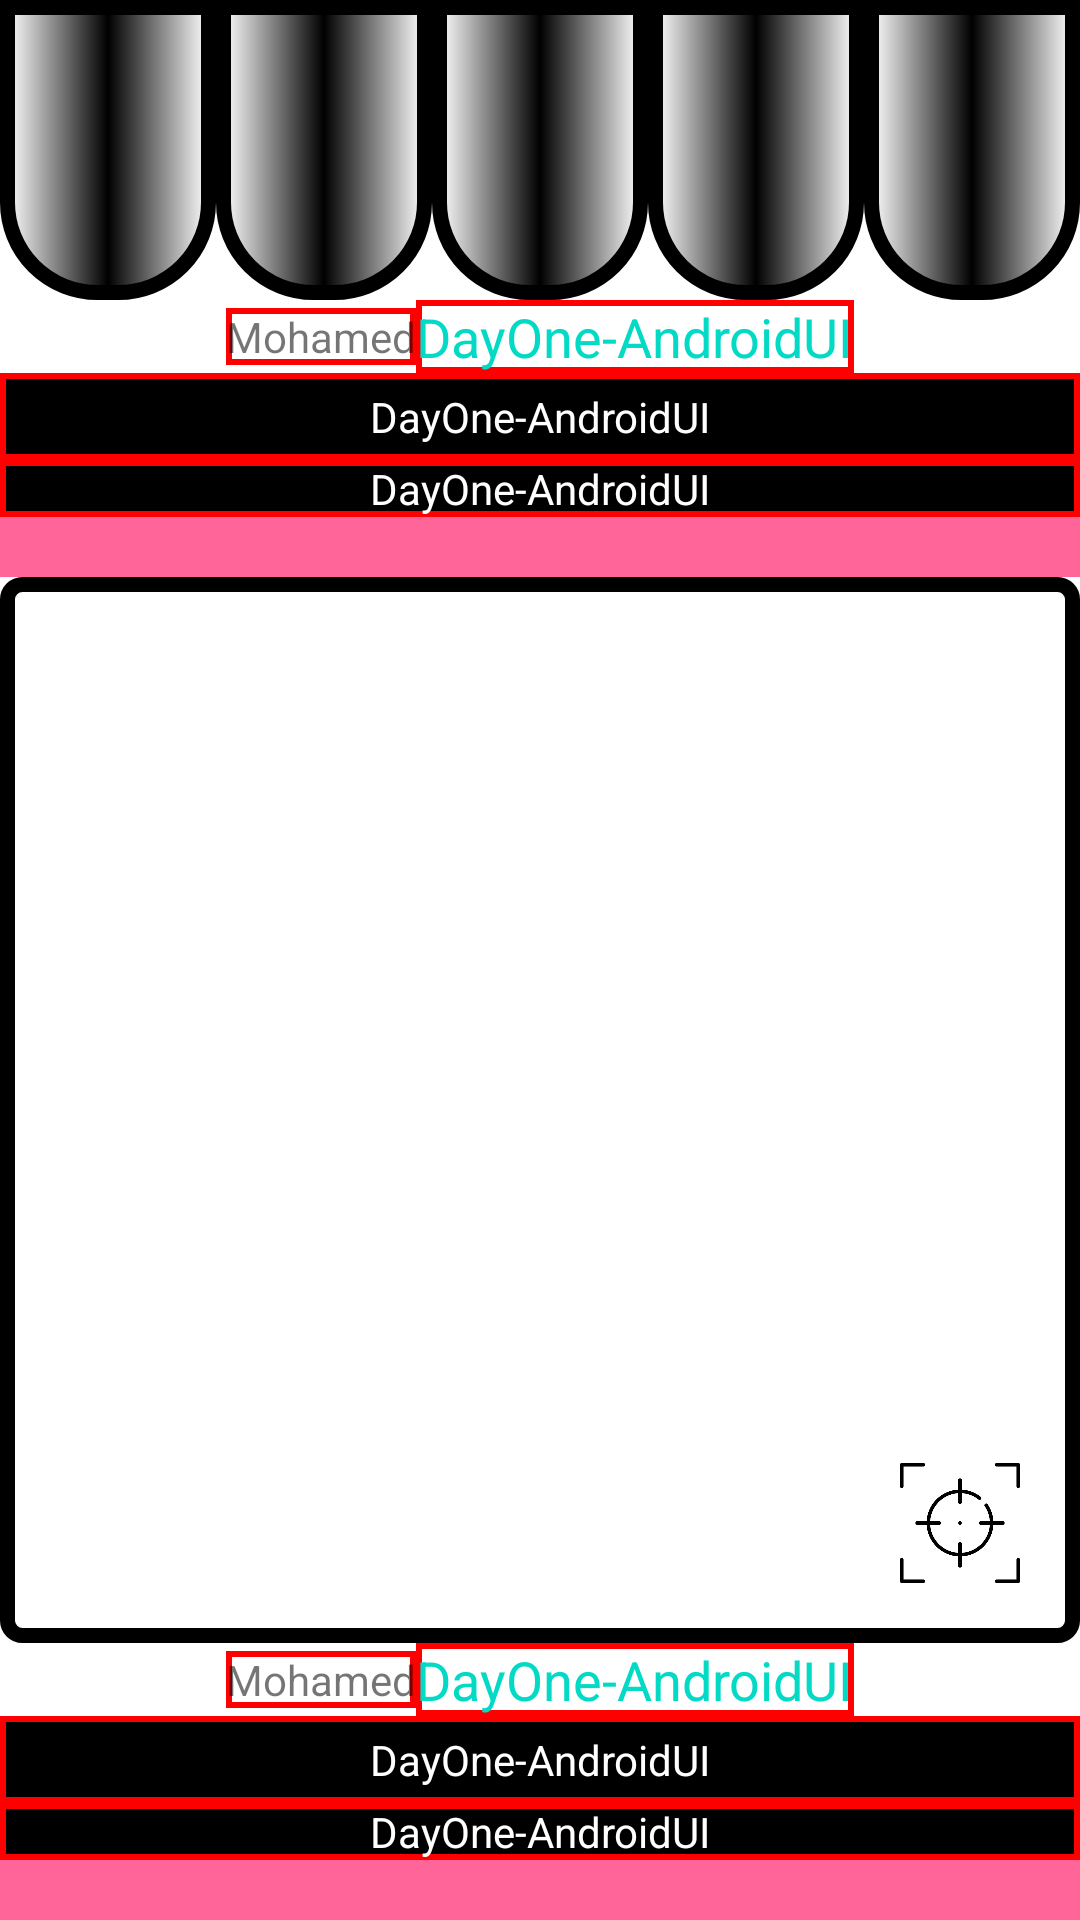

Named icons in this screenshot (1080px×1920px) and their centers, point (x, y):
focus: point (960, 1523)
